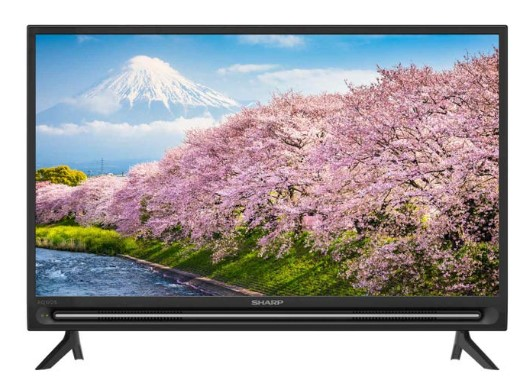tv: (19, 10, 513, 376)
